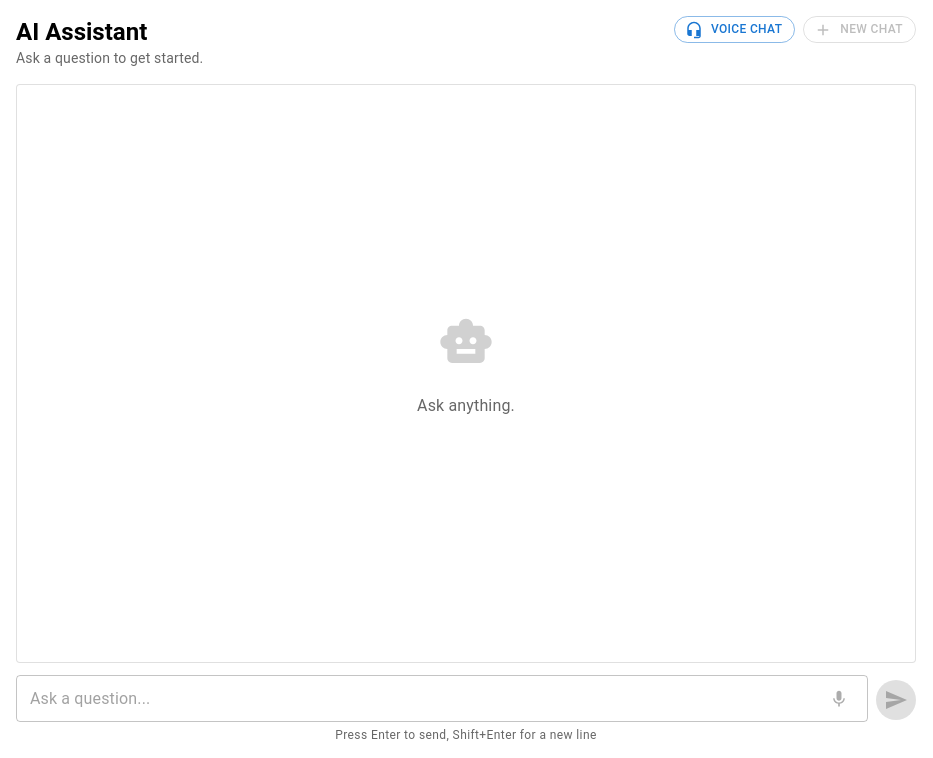
Test: AiChatPage voice chat › starts listening on the first click
Click the button "Voice Chat" at (735, 30), box [674,16,795,43]
Wait 500 ms
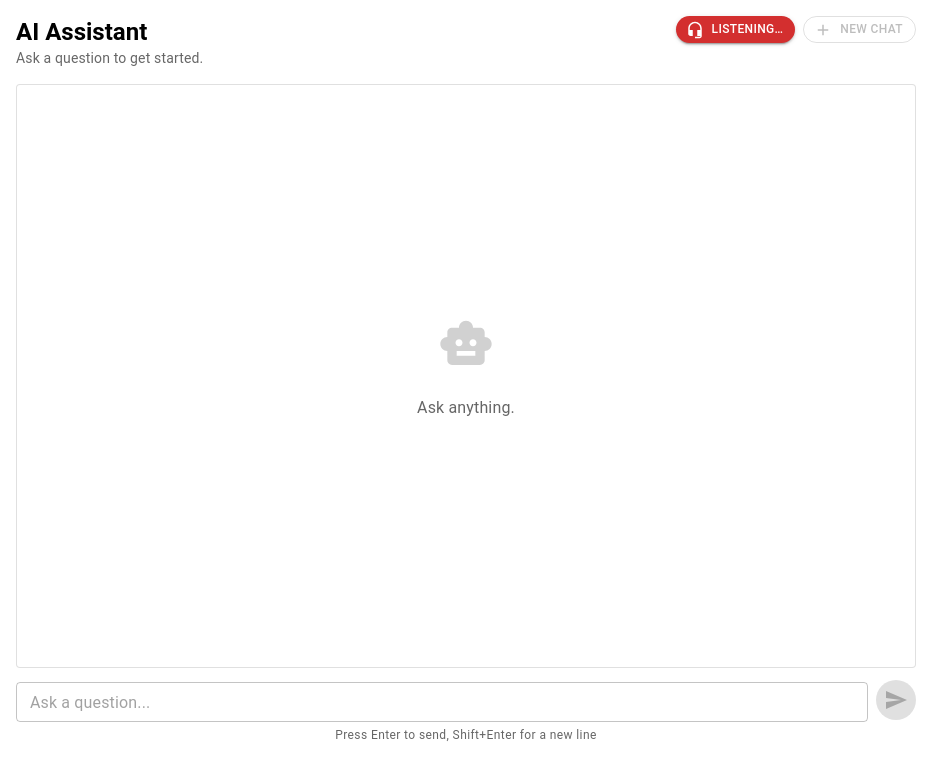
Now the button "Listening…" is shown, box [676,16,795,43]
